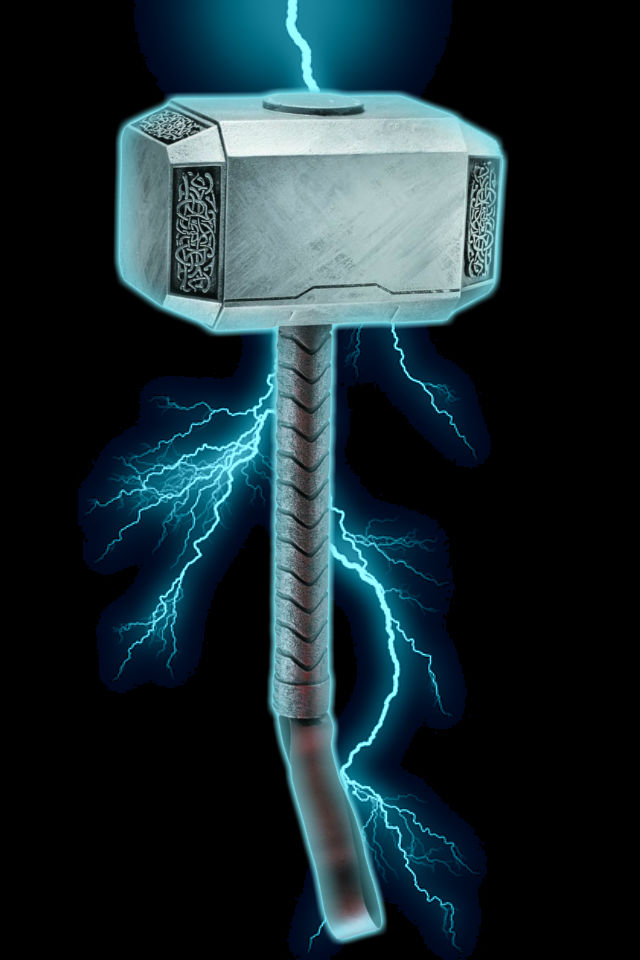THOR Hammer: (117, 67, 510, 772)
